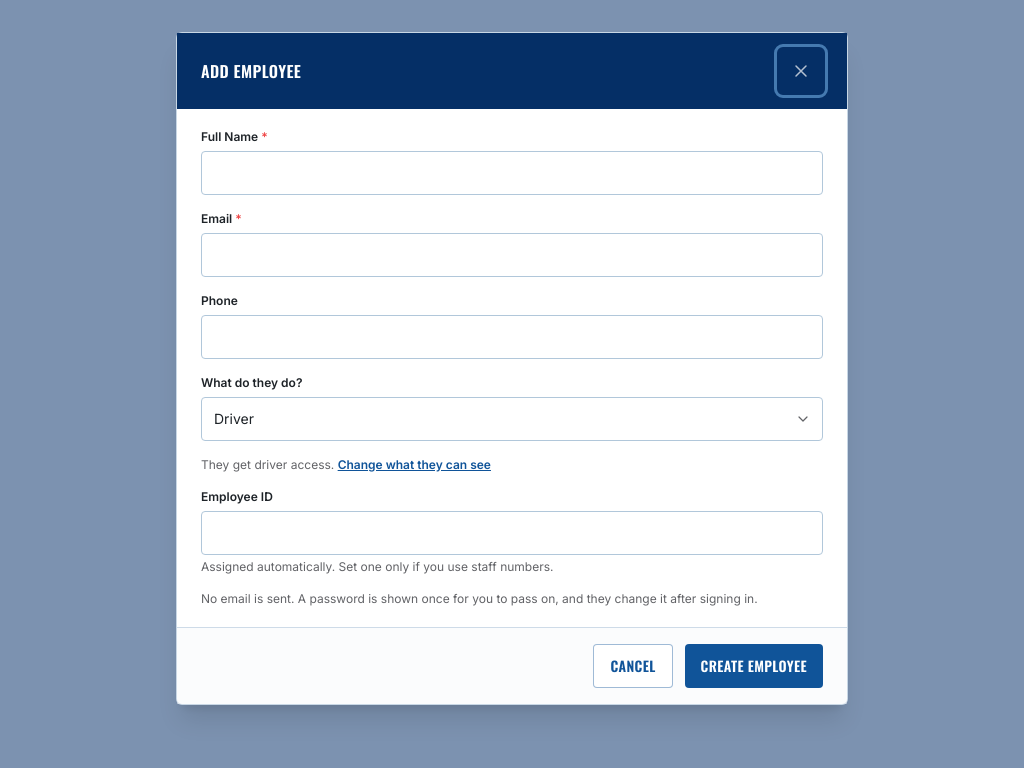
Scenario: EmployeeModal roles › reveals access as a separate choice on request
Click the button "Change what they can see" at [414, 465], box top-left (338, 457), bottom-right (491, 473)
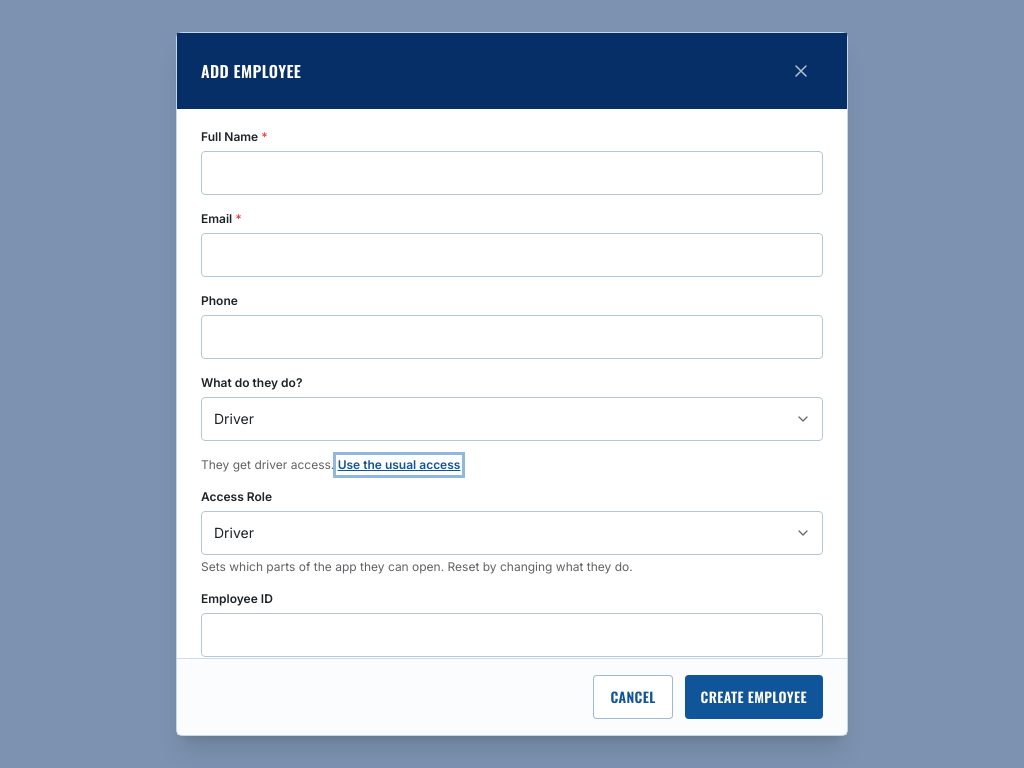
Expected: the dropdown labelled "Access Role" is shown, top-left (201, 511), bottom-right (823, 555)
